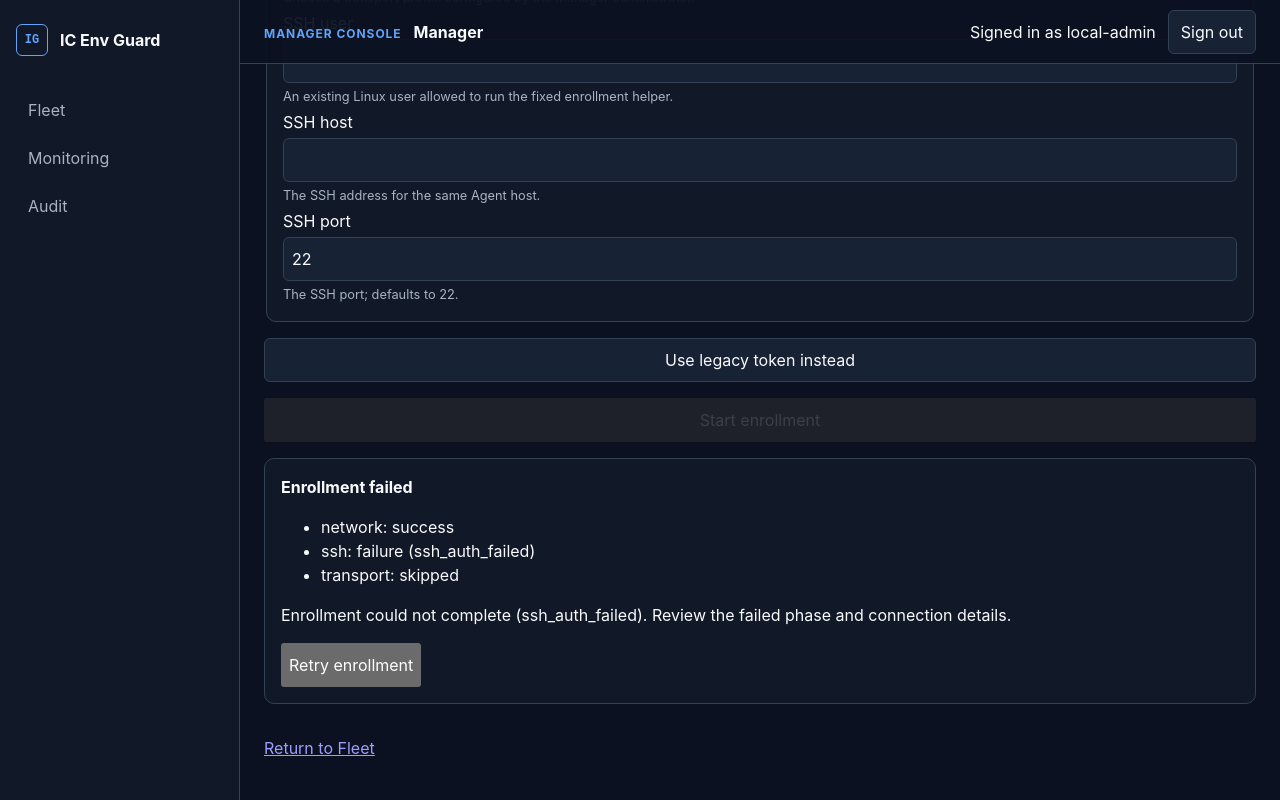
Add agent flow › shows a stable failed phase and lets the user retry without cancelling a terminal job
(page scrolled)
Expected: the list item "ssh: failure (ssh_auth_failed)" is shown, [321,541,535,561]
Expected: the message shows "ssh_auth_failed", [521,605,637,625]
Click the button "Retry enrollment". click: point(351, 665)
box: [281,643,421,687]
(page scrolled)
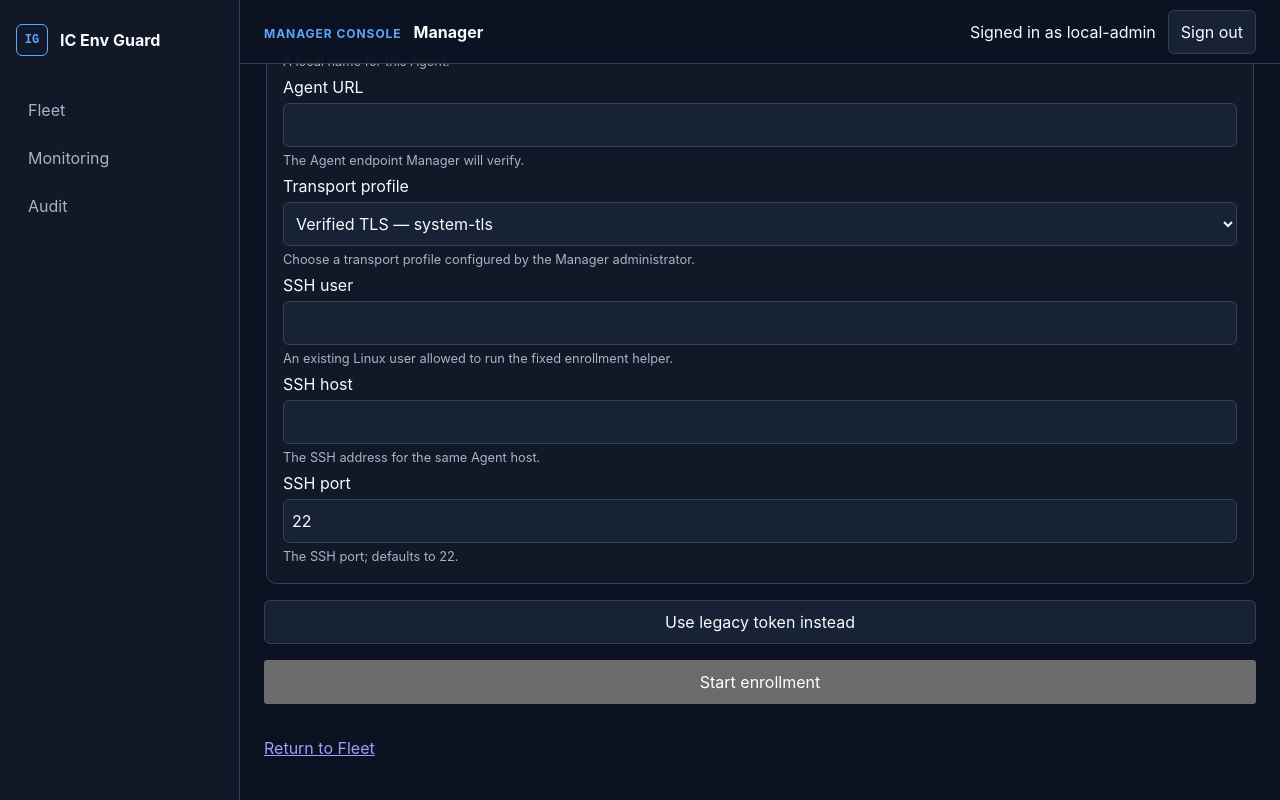
Now the button "Start enrollment" is enabled, box [264,660,1256,704]
